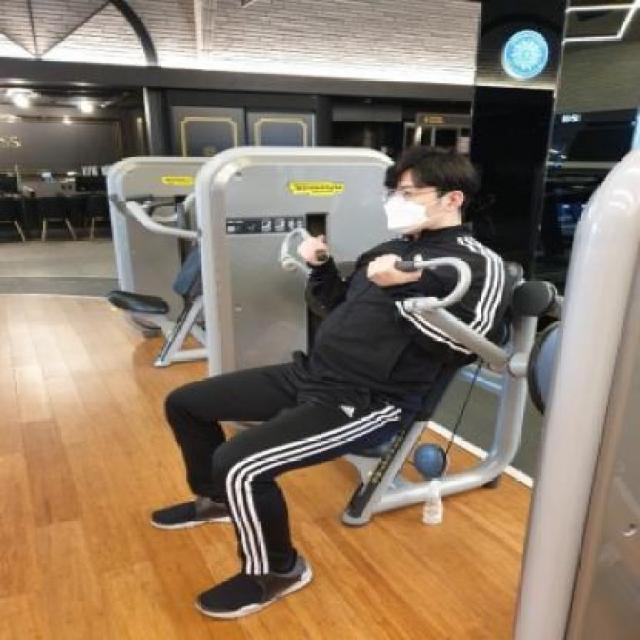arm curl machine: (197, 146, 561, 525)
